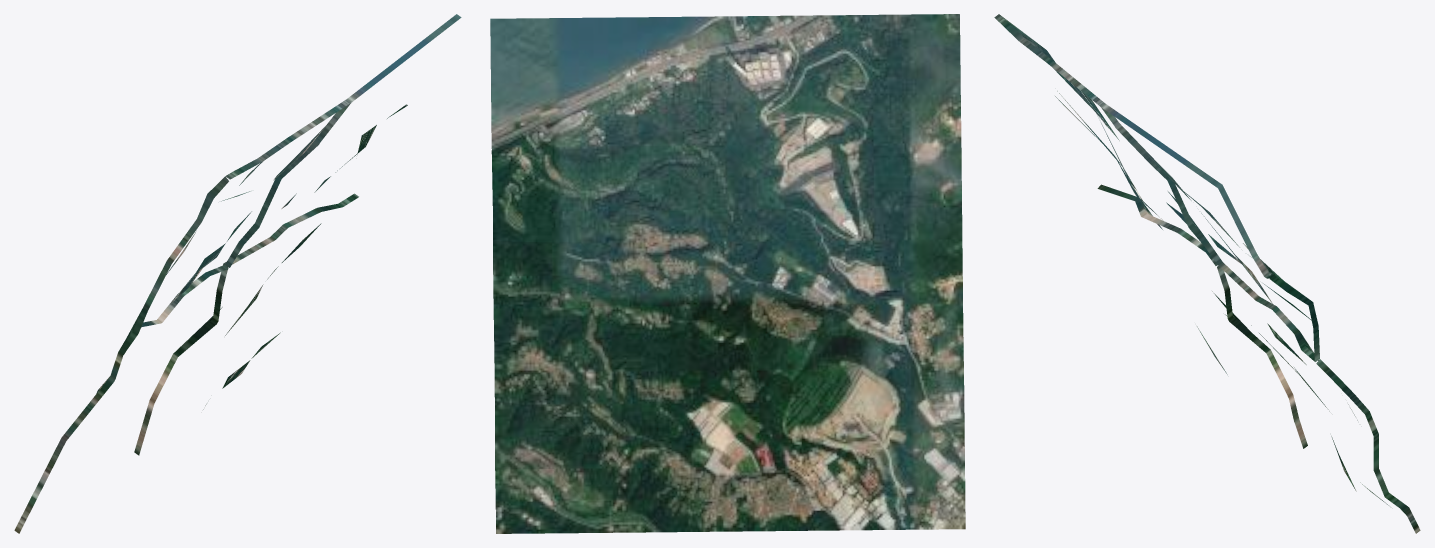
3 views of the same model, side by side, from view 1: azimuth 30°, elevation 25°; view 2: azimuth 150°, elevation 25°; view 3: azimuth 270°, elevation 25° (orthographic). The views are drawn at different scales.
Bounding box in the file's own units: 2544 × 2209 × 2099.
1 material, 1 textured.
